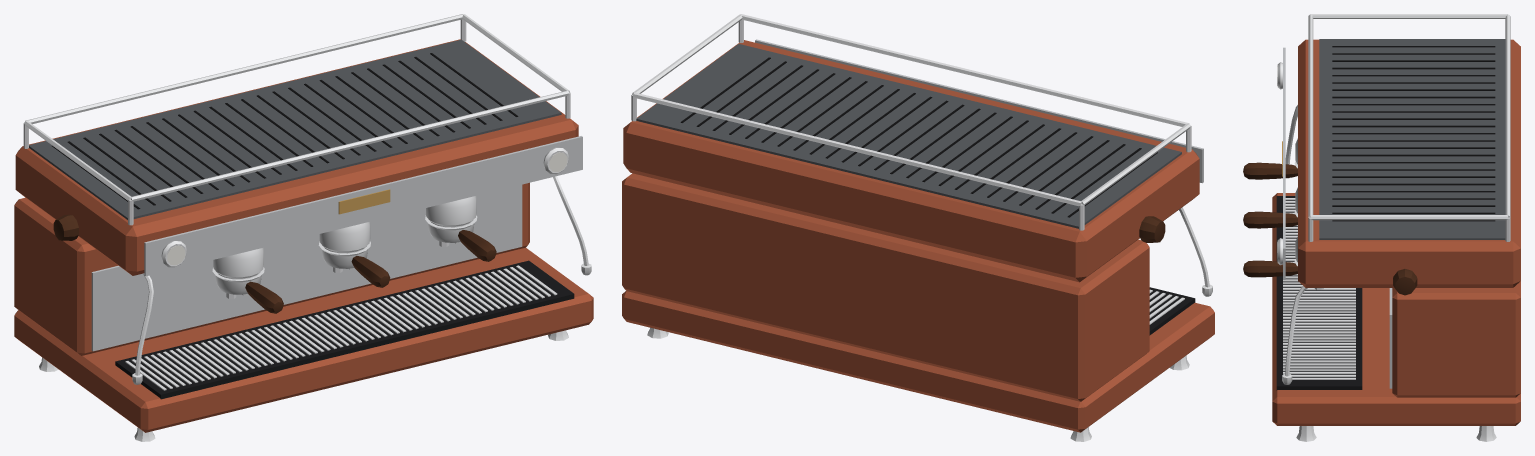
Rendered from espresso_terra.glb.
3 views of the same model, side by side, from view 1: azimuth 30°, elevation 25°; view 2: azimuth 150°, elevation 25°; view 3: azimuth 270°, elevation 25° (orthographic). The views are drawn at different scales.
Visible parts, largest first — view 1: terra_3g; view 2: terra_3g; view 3: terra_3g.
Boxes of the visible parts, <box> form: terra_3g: <box>14,14,593,441</box>; terra_3g: <box>622,14,1214,441</box>; terra_3g: <box>1243,14,1520,441</box>.
Size of the model in its own units: 1.23 by 0.5858 by 0.648.
